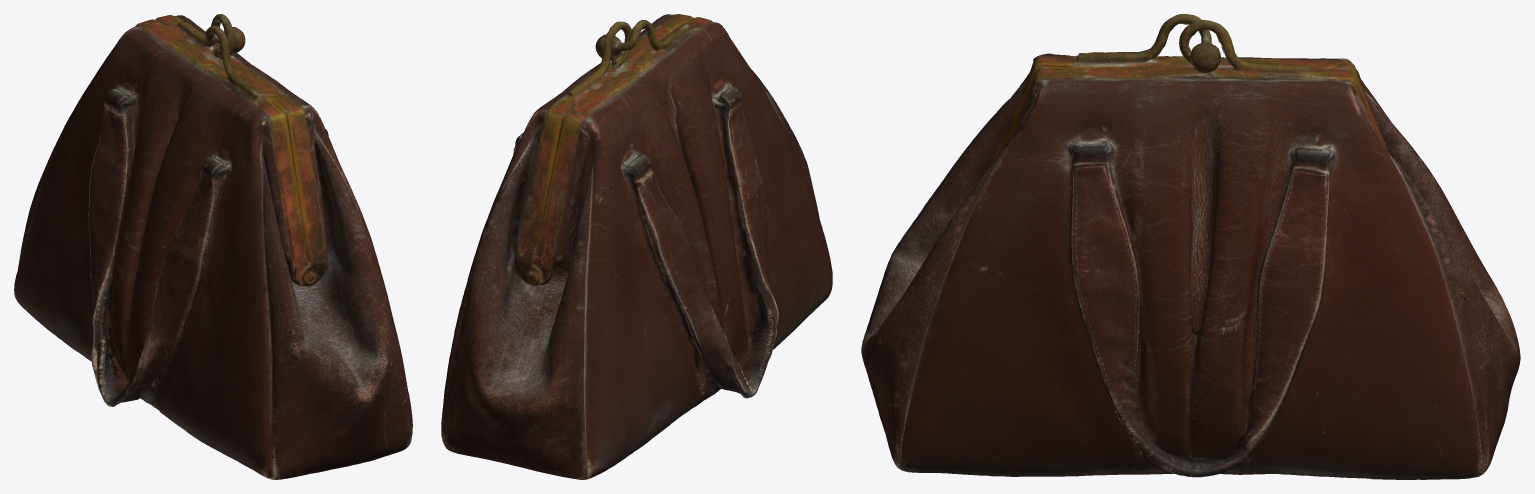
The picture shows the model from 3 angles, left to right: view 1: azimuth 30°, elevation 25°; view 2: azimuth 150°, elevation 25°; view 3: azimuth 270°, elevation 25°; orthographic projection. The views are drawn at different scales.
Visible parts, largest first — view 1: Object_2, Object_3; view 2: Object_2, Object_3; view 3: Object_2, Object_3.
Boxes of the visible parts, x1=… form: Object_2: x1=14, y1=14, x2=412, y2=479; Object_3: x1=14, y1=16, x2=411, y2=477; Object_2: x1=441, y1=14, x2=832, y2=479; Object_3: x1=453, y1=17, x2=830, y2=479; Object_2: x1=861, y1=14, x2=1520, y2=479; Object_3: x1=867, y1=15, x2=1510, y2=479.
Size of the model in its own units: 2.98 by 4.36 by 6.08.
1 material, 1 textured.
